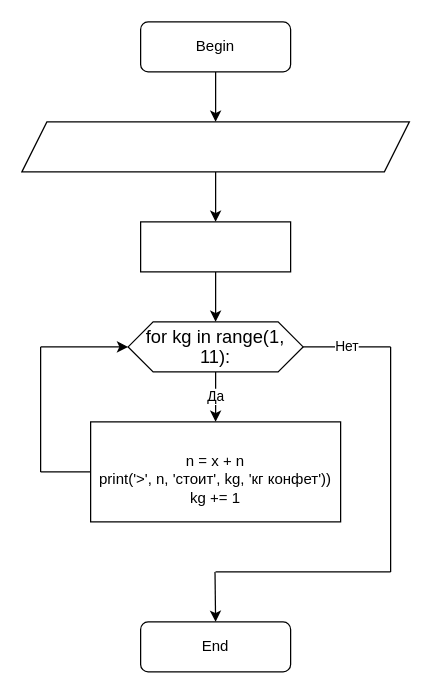
This 431x694 diagram has some shape labels left out. The box of each missing label's shape, as (x1, y1, x2, y2) in pixels:
n = 0: (139, 221, 291, 272)
x = int ( input ("Введите цену 1кг конфет: ")): (21, 121, 409, 172)
